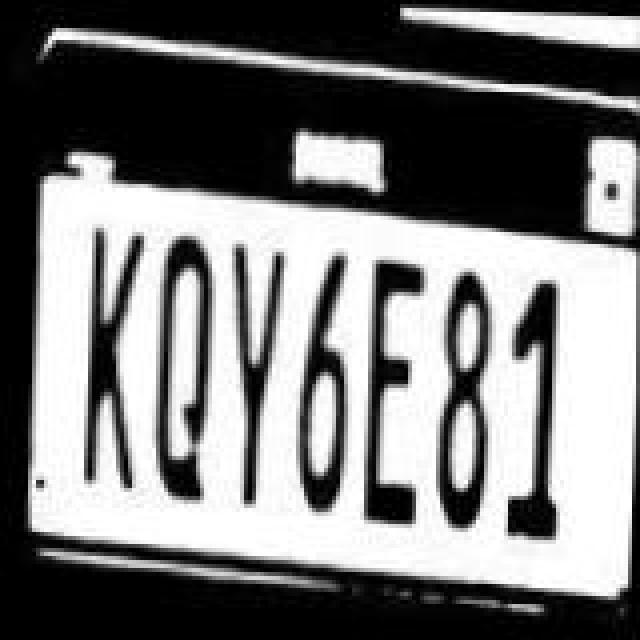1: (500, 270, 580, 554)
6: (290, 242, 358, 522)
8: (430, 262, 506, 538)
E: (360, 246, 432, 530)
K: (66, 210, 150, 494)
Q: (142, 234, 218, 514)
Y: (214, 234, 290, 518)
